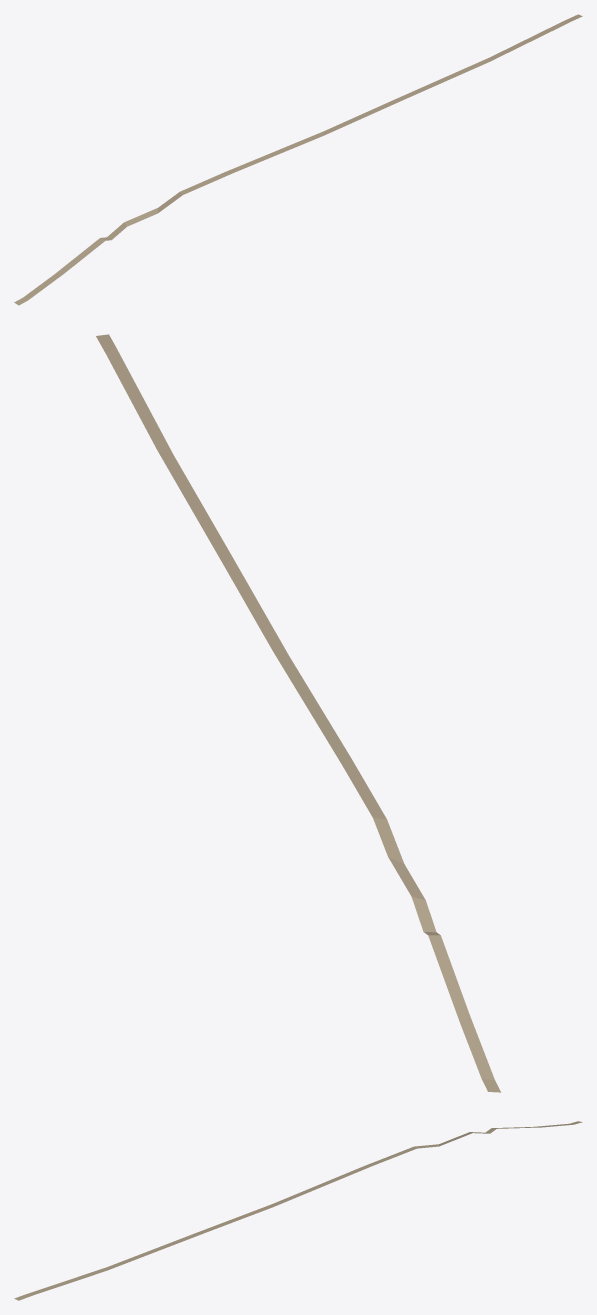
The model's file is farm_-11_-4_track.glb.
3 renders of one model, top to bottom at view 1: azimuth 90°, elevation 25°; view 2: azimuth 150°, elevation 25°; view 3: azimuth 270°, elevation 25°, orthographic. The views are drawn at different scales.
Visible parts, largest first — view 1: geometry_0; view 2: geometry_0; view 3: geometry_0.
Boxes of the visible parts, x1=… form: geometry_0: x1=14, y1=14, x2=582, y2=305; geometry_0: x1=96, y1=334, x2=500, y2=1092; geometry_0: x1=14, y1=1121, x2=582, y2=1300.
Bounding box in the file's own units: 268 × 29.73 × 274.
